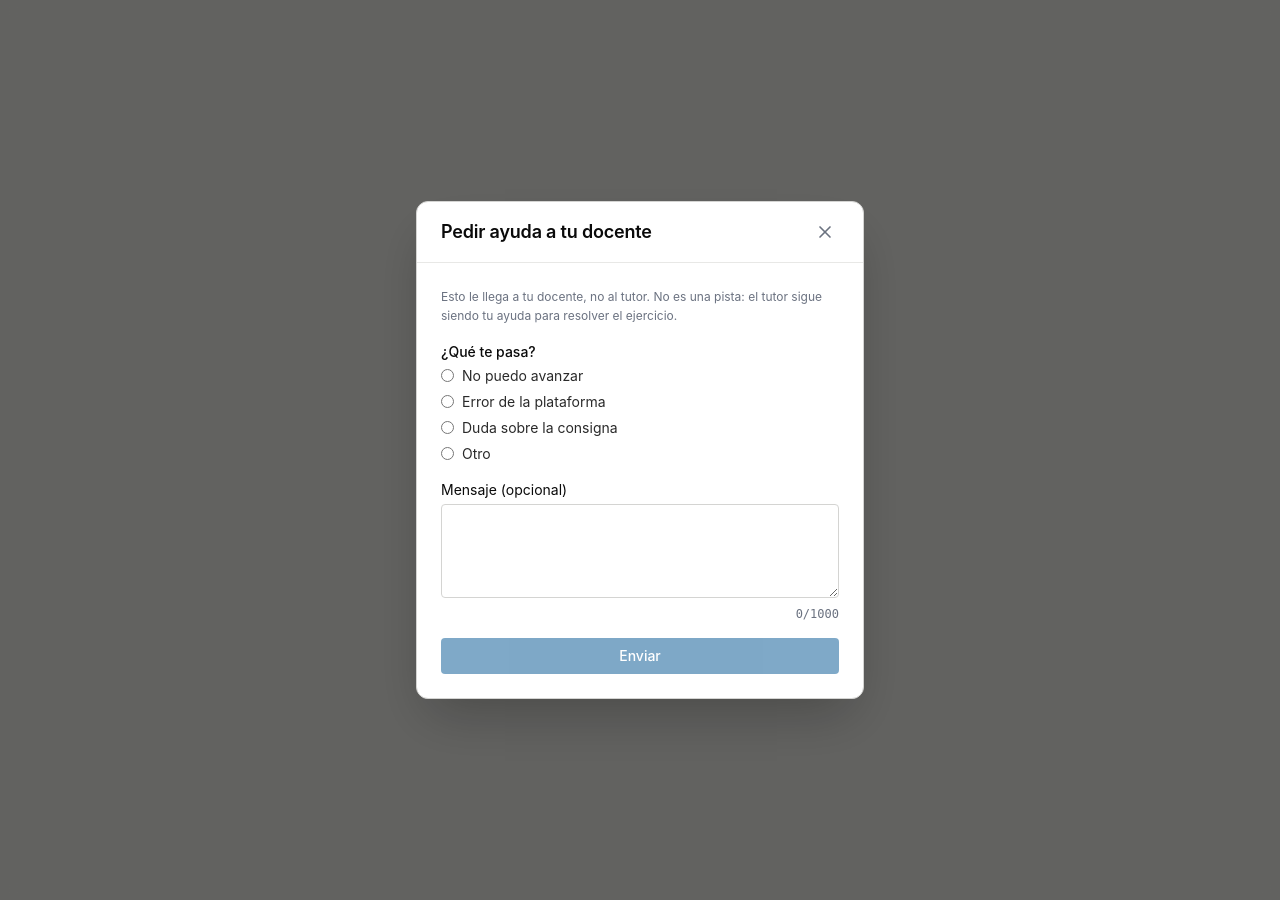
Test: PedirAyudaModal › Enviar esta deshabilitado sin categoria y se habilita al elegirla
Expected: the button "Enviar" is disabled, [441,638,839,674]
Click the radio button labelled "No puedo avanzar". click: (448, 376)
box: [441,369,454,382]
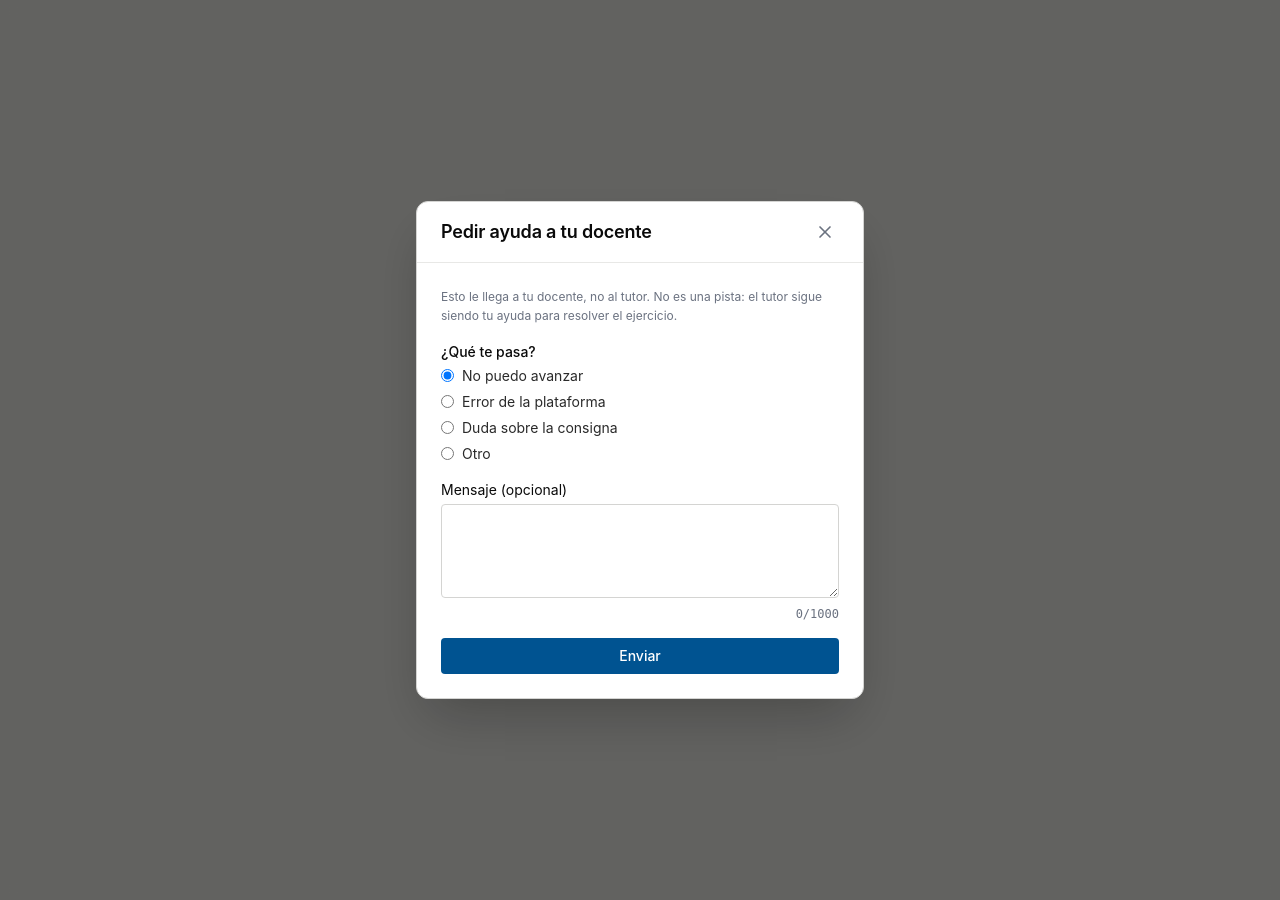
Expected: the button "Enviar" is enabled, [441,638,839,674]
